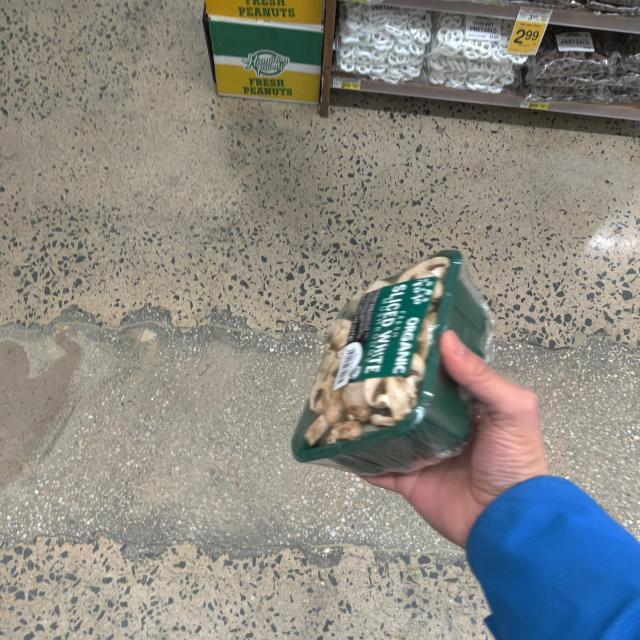Mushrooms: (276, 241, 508, 487)
